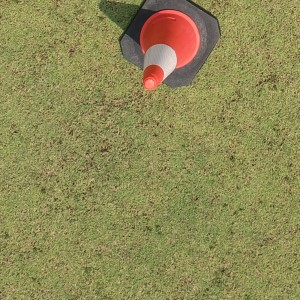traffic cone: (120, 1, 221, 90)
